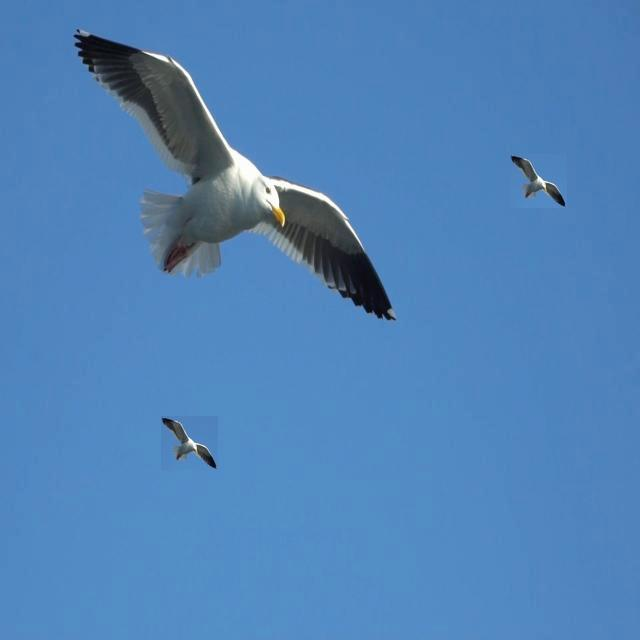bird: (65, 14, 420, 333), (510, 156, 570, 208), (162, 416, 220, 469)
